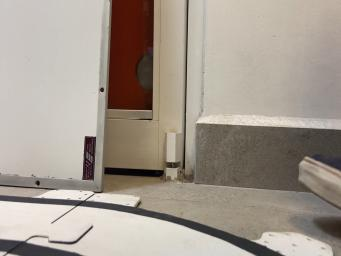street: (0, 196, 280, 255), (0, 196, 280, 255)
